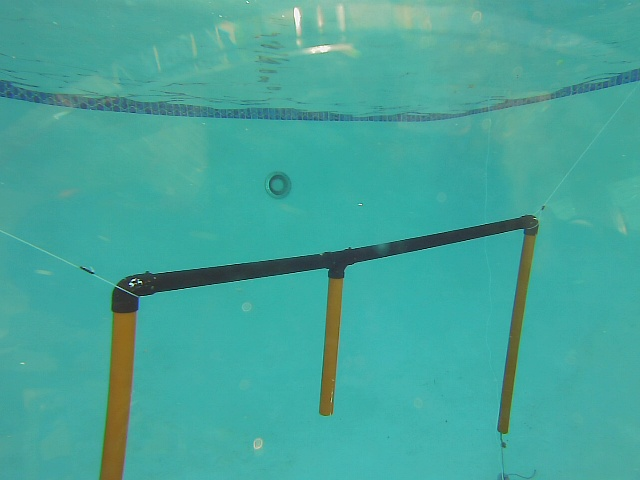Gate: (495, 228, 538, 438), (96, 301, 140, 480), (315, 270, 347, 420)
